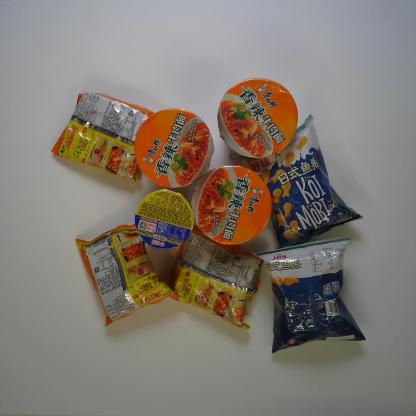Instant Noodles: (75, 224, 180, 327), (167, 224, 265, 332), (50, 92, 156, 184), (216, 77, 300, 160), (133, 107, 215, 190), (190, 164, 272, 247), (134, 188, 195, 250)
Puffed Food: (228, 113, 364, 250), (252, 235, 367, 354)
